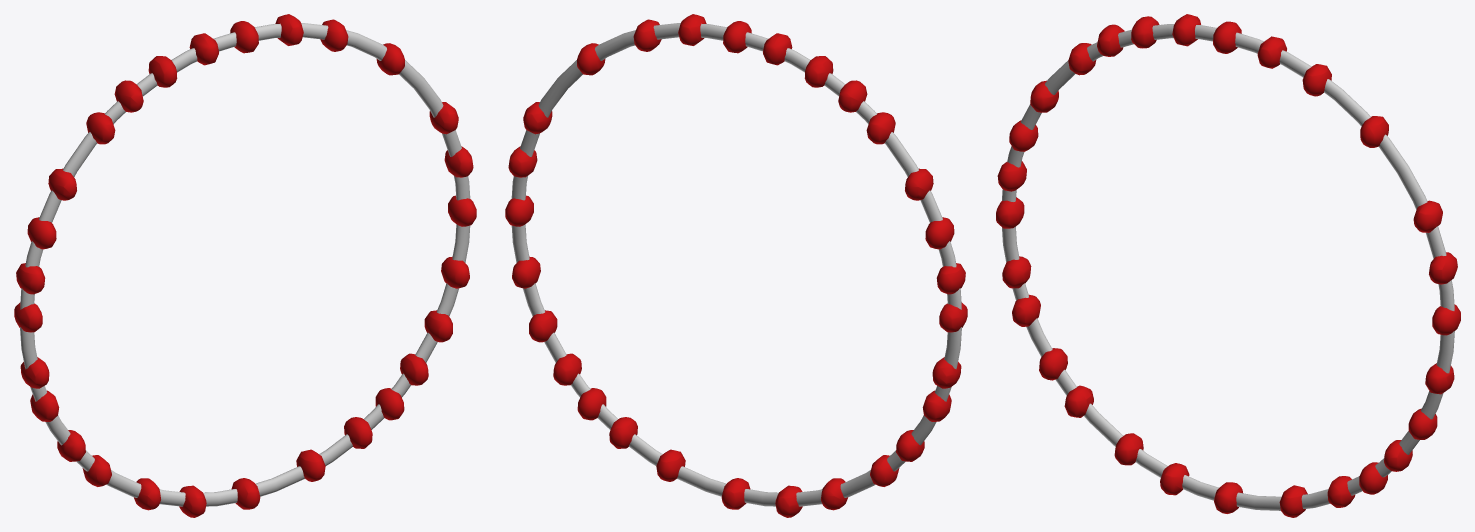
The picture shows the model from 3 angles, left to right: view 1: azimuth 30°, elevation 25°; view 2: azimuth 150°, elevation 25°; view 3: azimuth 330°, elevation 25°; orthographic projection.
Parts seen in each view (by area): view 1: Electron_Mball, Ring_Torus; view 2: Electron_Mball, Ring_Torus; view 3: Electron_Mball, Ring_Torus.
Part boxes in pixels (bbox=[...]): Electron_Mball: bbox=[14, 14, 476, 517]; Ring_Torus: bbox=[20, 23, 470, 506]; Electron_Mball: bbox=[505, 14, 967, 517]; Ring_Torus: bbox=[511, 23, 961, 506]; Electron_Mball: bbox=[996, 14, 1460, 517]; Ring_Torus: bbox=[1002, 24, 1454, 510].
Bounding box in the file's own units: 2.91 × 2.96 × 0.2138.
